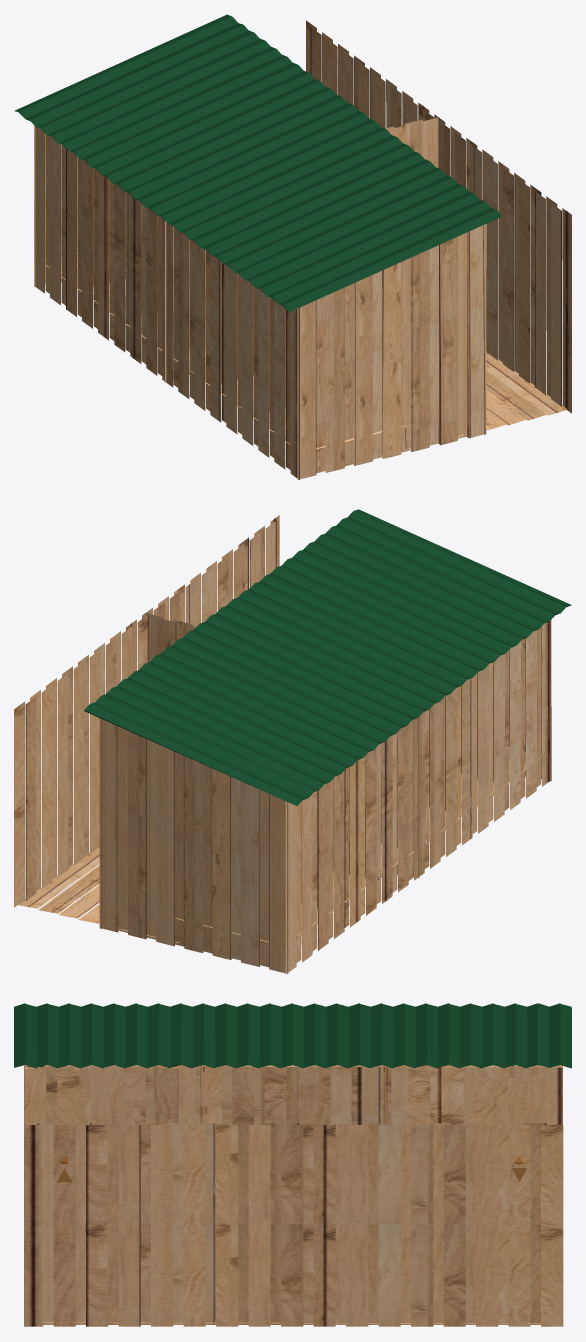
3 views of the same model, one above another, from view 1: azimuth 30°, elevation 25°; view 2: azimuth 150°, elevation 25°; view 3: azimuth 270°, elevation 25° (orthographic).
Visible parts, largest first — view 1: Туалет; view 2: Туалет; view 3: Туалет.
Boxes of the visible parts, x1=… form: Туалет: x1=14, y1=14, x2=571, y2=479; Туалет: x1=14, y1=509, x2=571, y2=974; Туалет: x1=14, y1=1003, x2=571, y2=1326.
Size of the model in its own units: 4.47 by 3.24 by 7.28.
4 materials, 3 textured.
